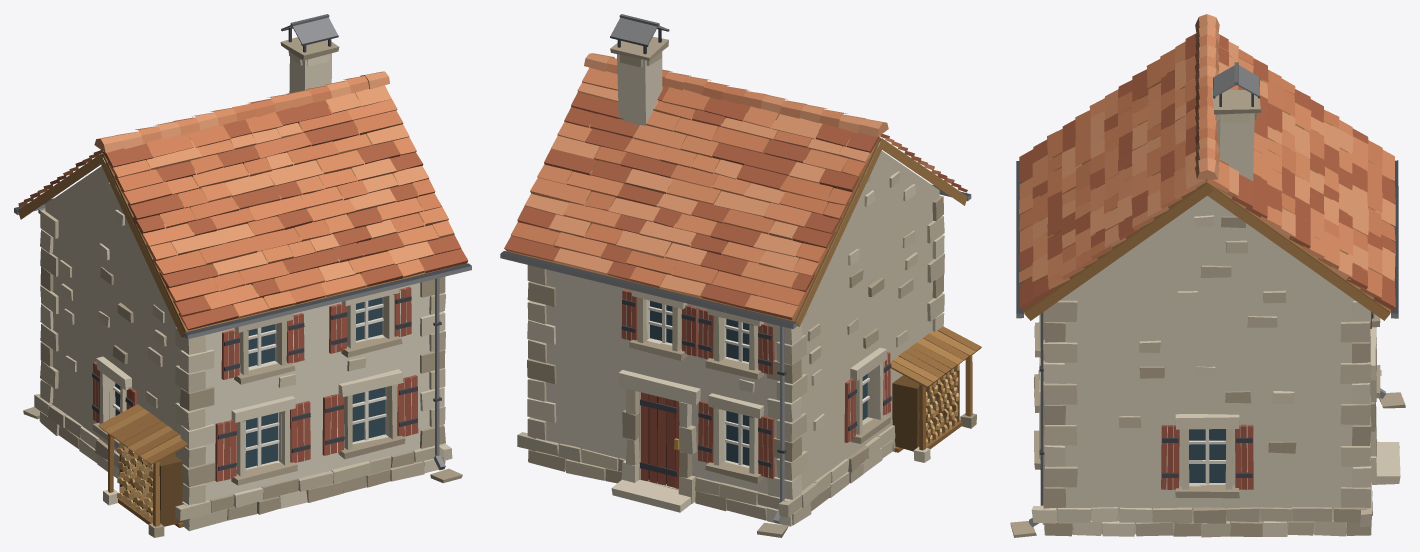
Rendered from cheminot-o.glb.
3 views of the same model, side by side, from view 1: azimuth 30°, elevation 25°; view 2: azimuth 150°, elevation 25°; view 3: azimuth 270°, elevation 25° (orthographic). The views are drawn at different scales.
Visible parts, largest first — view 1: cheminot-o; view 2: cheminot-o; view 3: cheminot-o.
Part boxes in pixels (box(x1,y1,x2,y2)): cheminot-o: box(14, 14, 471, 537); cheminot-o: box(500, 14, 981, 537); cheminot-o: box(1010, 14, 1405, 537).
Bounding box in the file's own units: 7.38 × 9.1 × 7.43.
